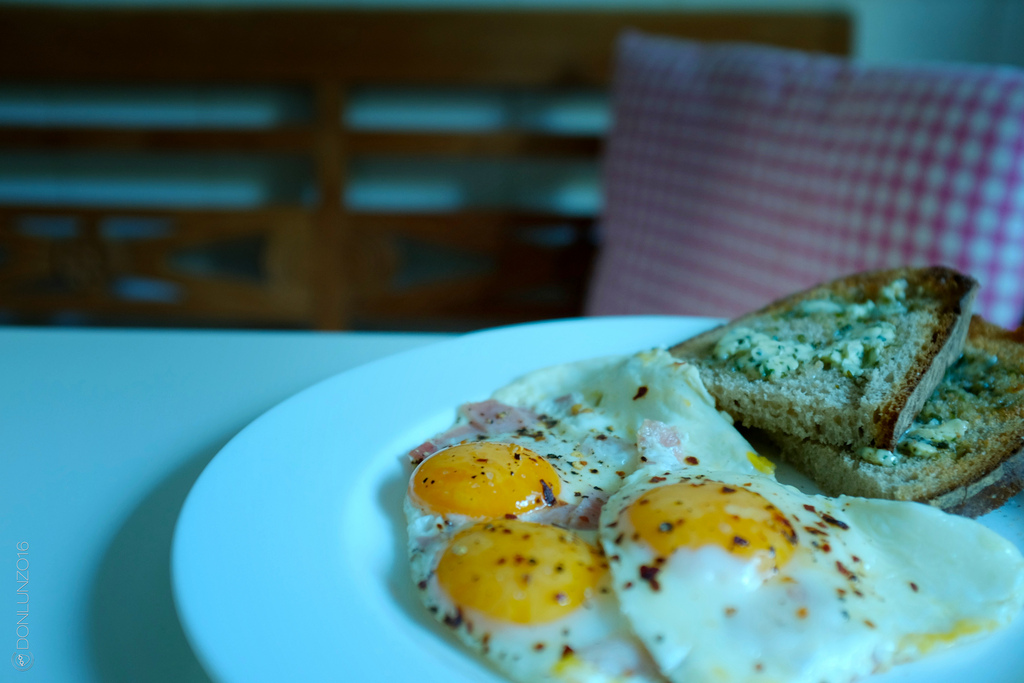fried egg: (606, 446, 954, 665), (431, 517, 677, 674), (428, 365, 647, 521)
slice of bread: (647, 271, 972, 437), (797, 304, 1023, 498)
